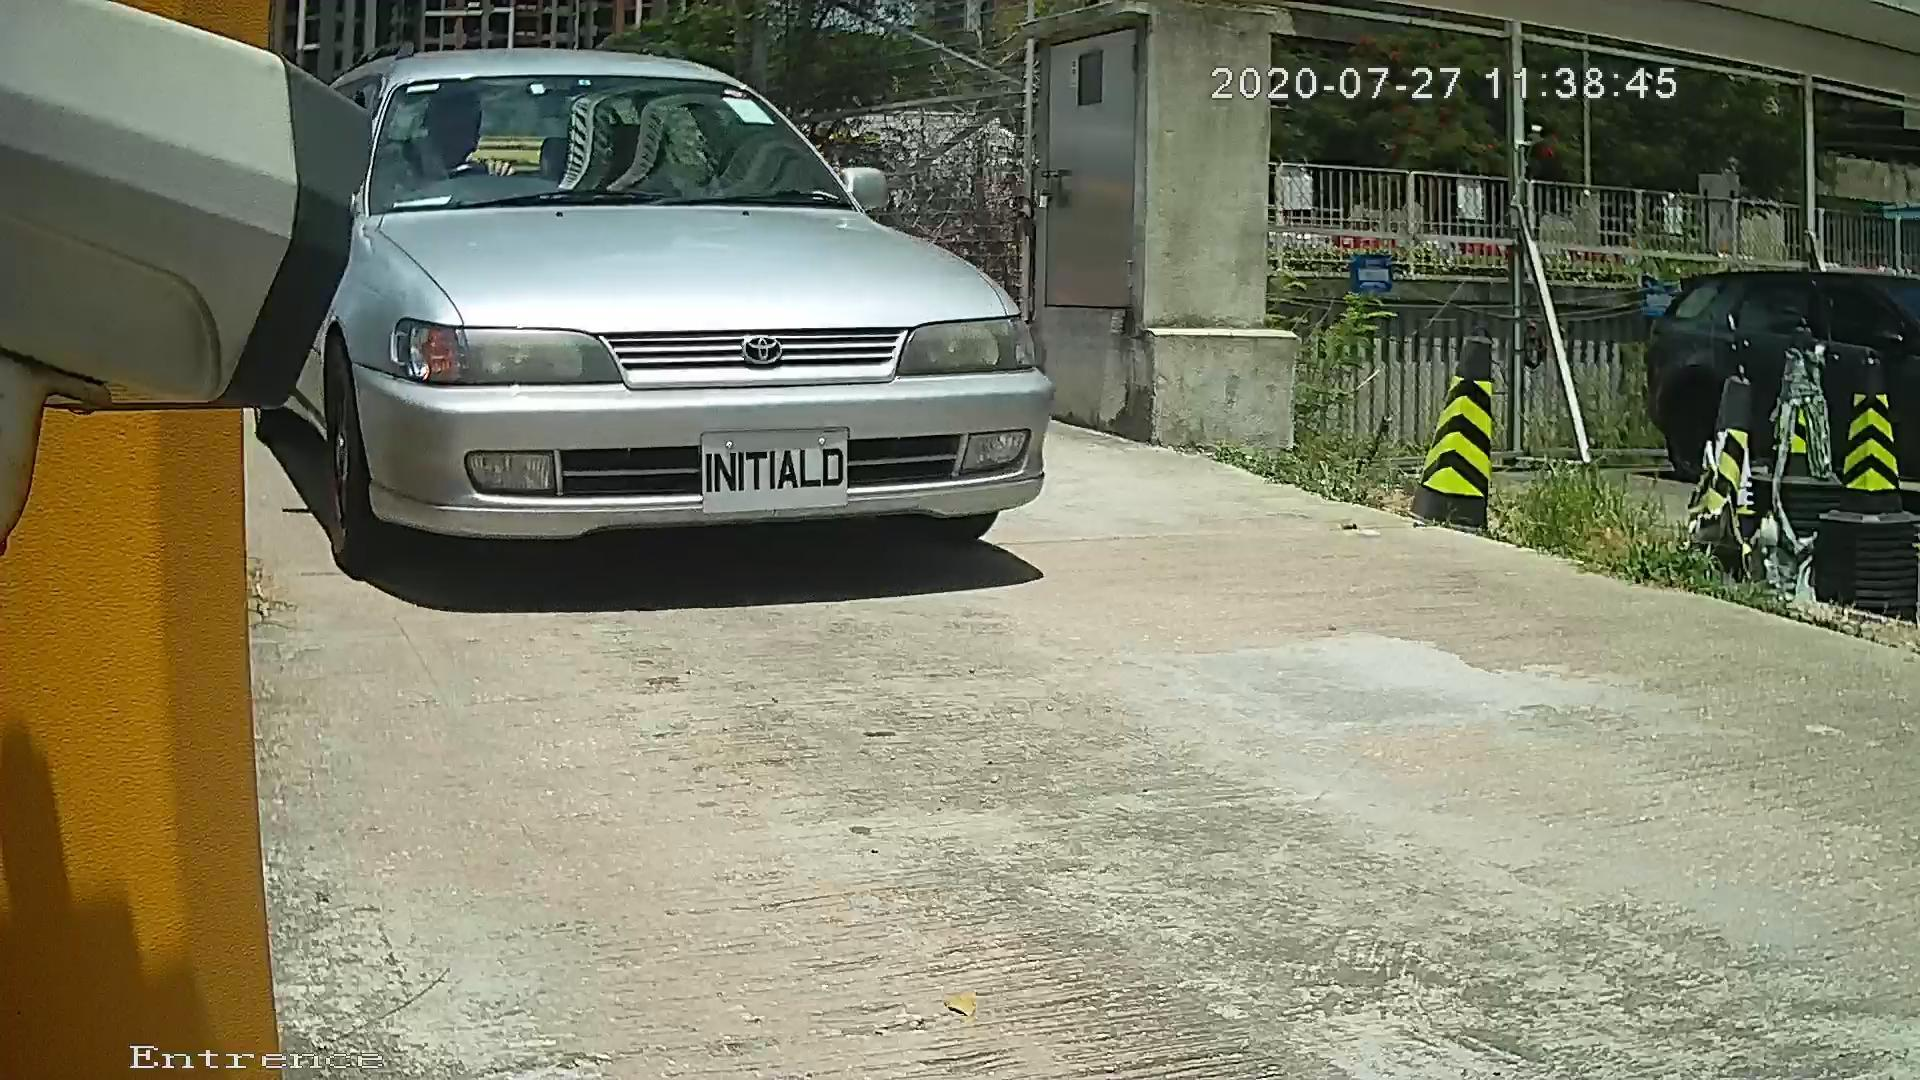License Plate: (672, 410, 899, 530)
